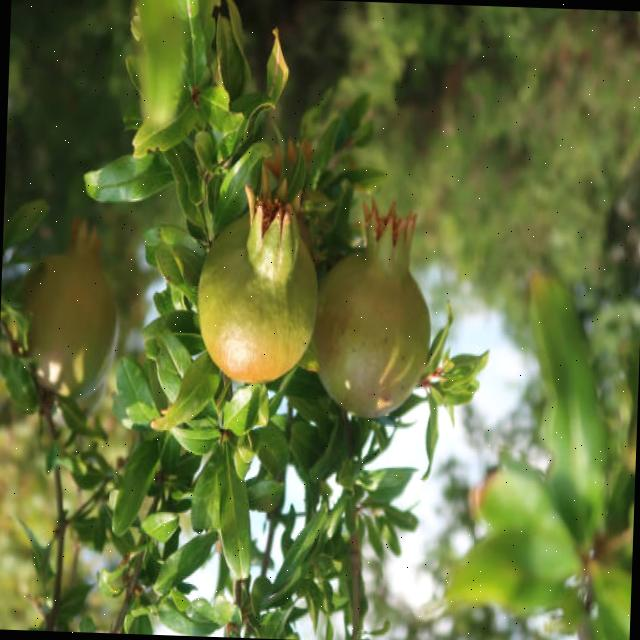Unripe: (193, 175, 323, 392), (312, 198, 435, 424), (13, 220, 122, 402)
